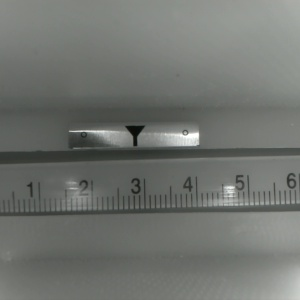1: (25, 181, 33, 197)
2: (78, 179, 89, 194)
3: (130, 177, 140, 194)
4: (181, 176, 192, 192)
5: (234, 174, 245, 190)
6: (286, 172, 296, 189)
finger: (123, 126, 145, 147)
